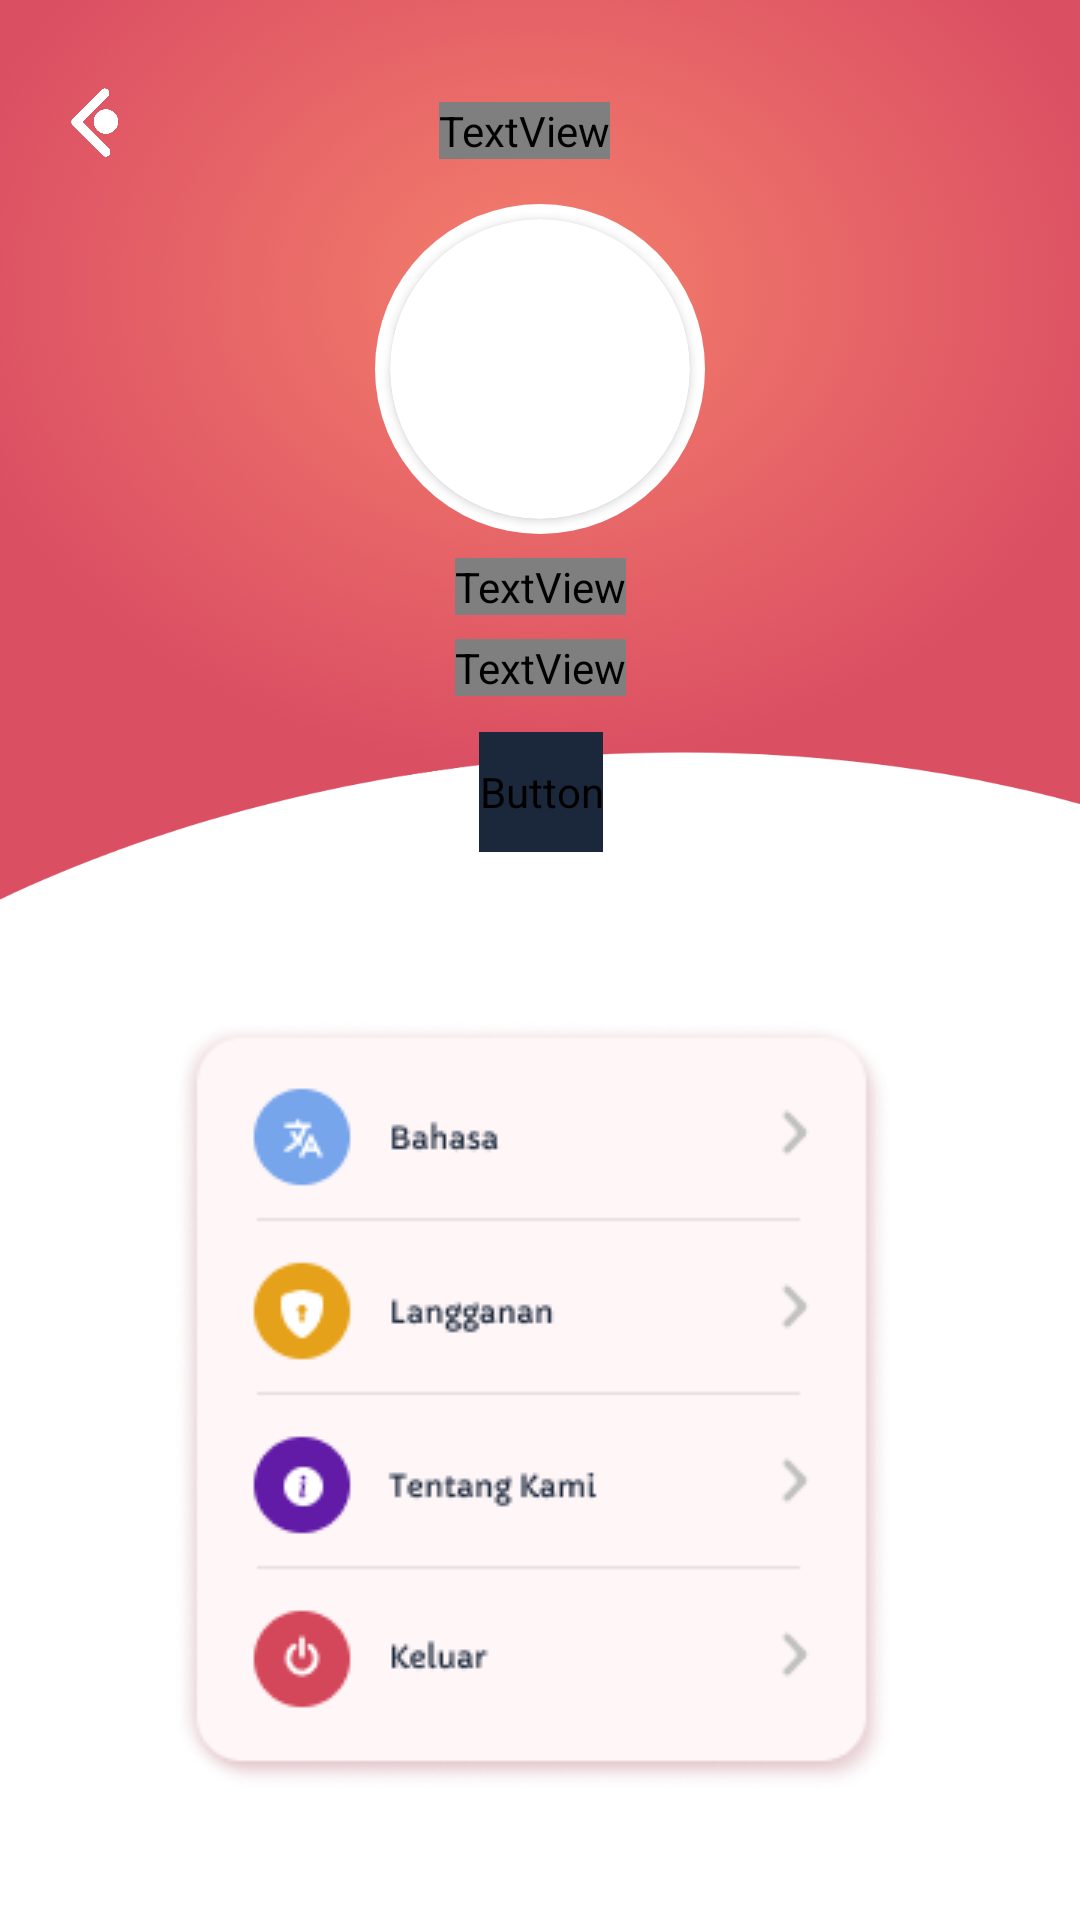

Screen size 1080 × 1920. Icon name, then its box in pixels as [x1=x1, y1=y1, x2=x2, y2=y2]:
back setting: [x1=71, y1=88, x2=118, y2=157]
